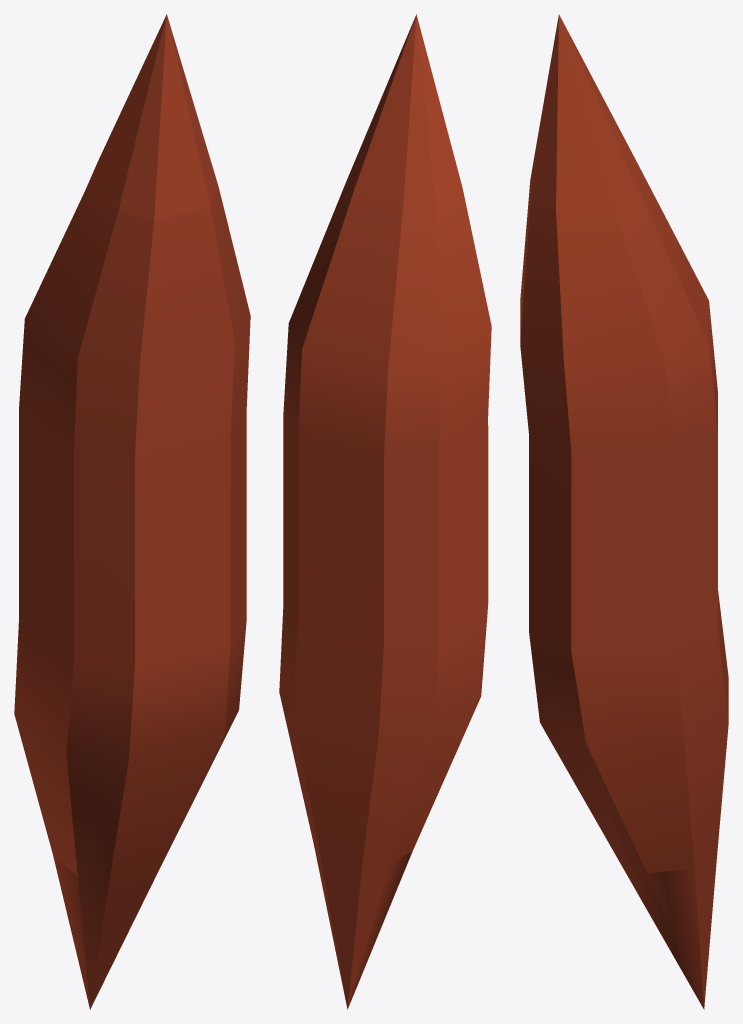
Rendered from Gem3.fbx.
3 views of the same model, side by side, from view 1: azimuth 30°, elevation 25°; view 2: azimuth 150°, elevation 25°; view 3: azimuth 270°, elevation 25° (orthographic). The views are drawn at different scales.
Visible parts, largest first — view 1: Gem3; view 2: Gem3; view 3: Gem3.
Part boxes in pixels (x1,y1,x2,y2): Gem3: (14,14,250,1009); Gem3: (279,14,491,1009); Gem3: (520,14,728,1009).
Bounding box in the file's own units: 117 × 683 × 130.
